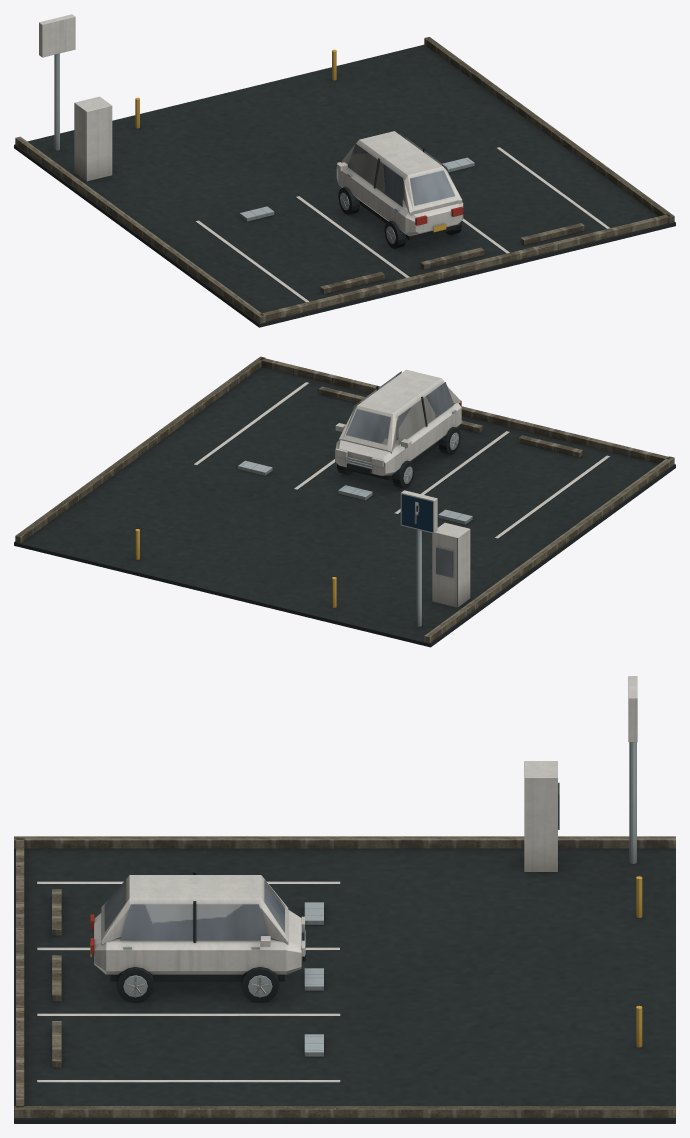
File: parking_001.obj
3 views of the same model, one above another, from view 1: azimuth 30°, elevation 25°; view 2: azimuth 150°, elevation 25°; view 3: azimuth 270°, elevation 25° (orthographic). The views are drawn at different scales.
Visible parts, largest first — view 1: parking_001; view 2: parking_001; view 3: parking_001.
Boxes of the visible parts, x1=… form: parking_001: x1=14, y1=14, x2=675, y2=327; parking_001: x1=14, y1=356, x2=675, y2=647; parking_001: x1=14, y1=676, x2=675, y2=1123.
Bounding box in the file's own units: 10.6 × 3.25 × 10.8.
1 material, 1 textured.
